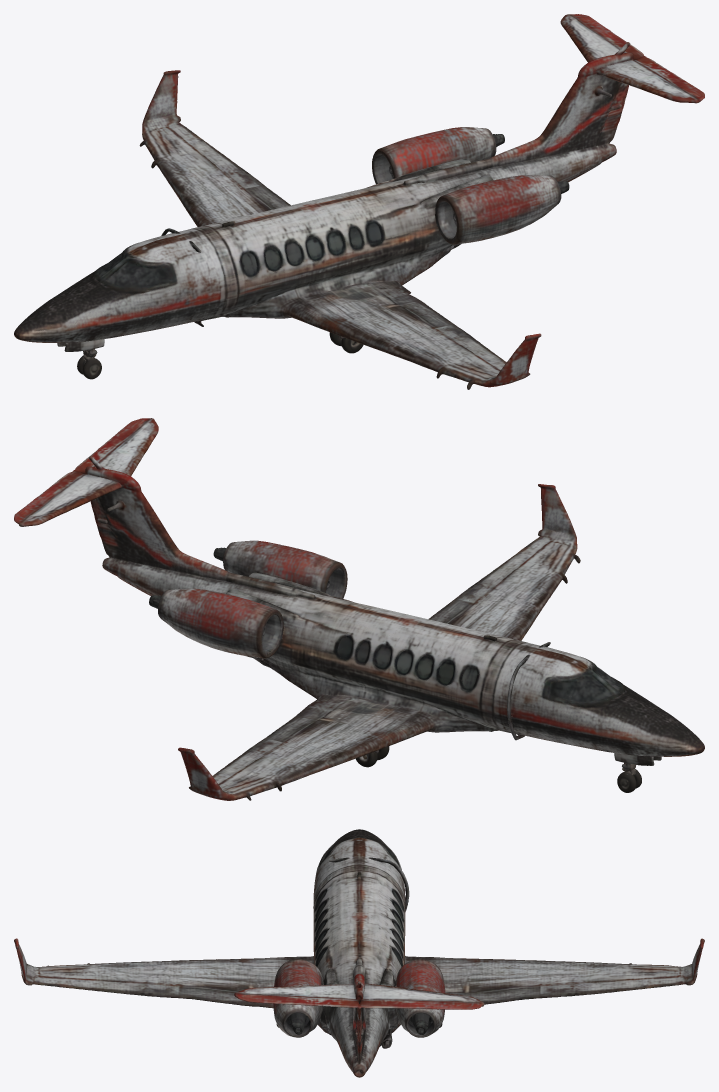
The model's file is AirCraft.glb.
3 views of the same model, one above another, from view 1: azimuth 30°, elevation 25°; view 2: azimuth 150°, elevation 25°; view 3: azimuth 270°, elevation 25° (orthographic). The views are drawn at different scales.
Parts seen in each view (by area): view 1: world; view 2: world; view 3: world.
Boxes of the visible parts, x1,y1,x2,y2 form: world: (14,14,704,389); world: (14,418,704,800); world: (14,829,704,1077).
Size of the model in its own units: 1 by 0.3074 by 0.9986.
Materials: 1 (1 with a texture image).
